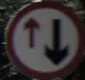Two way: (9, 5, 75, 73)
